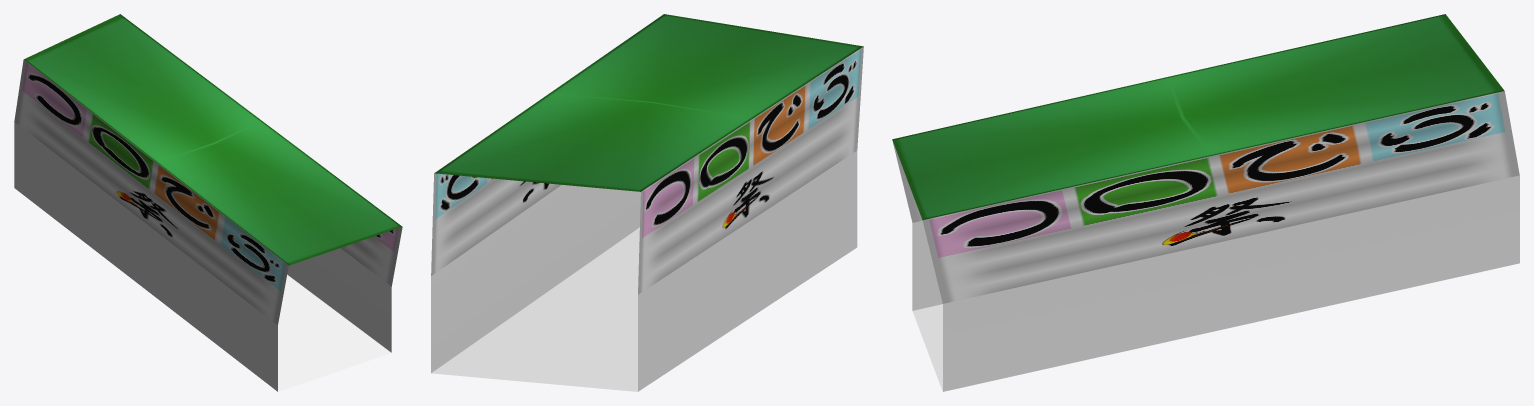
Rendered from CourseWinter_Wall_L_10_10.fbx.
The picture shows the model from 3 angles, left to right: view 1: azimuth 30°, elevation 25°; view 2: azimuth 150°, elevation 25°; view 3: azimuth 270°, elevation 25°; orthographic projection. The views are drawn at different scales.
Visible parts, largest first — view 1: polySurface511; view 2: polySurface511; view 3: polySurface511.
Boxes of the visible parts, left/top/right/bottom form: polySurface511: left=14, top=14, right=402, bottom=391; polySurface511: left=431, top=14, right=863, bottom=391; polySurface511: left=892, top=14, right=1519, bottom=391.
Bounding box in the file's own units: 2.92 × 2.99 × 6.47.
Materials: 1 (1 with a texture image).
